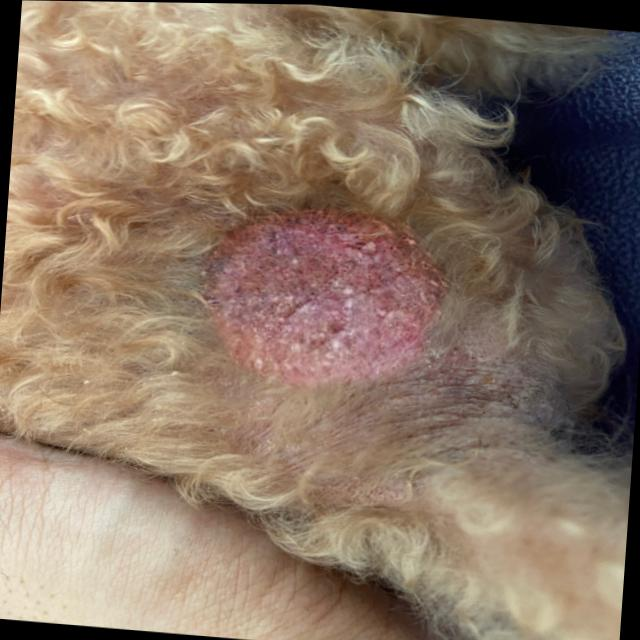ringworm: (140, 169, 466, 418)
